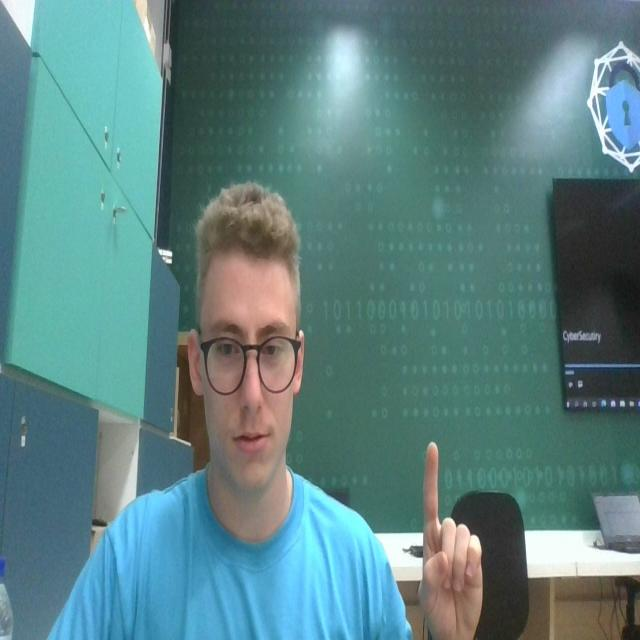D2: (408, 435, 492, 640)
